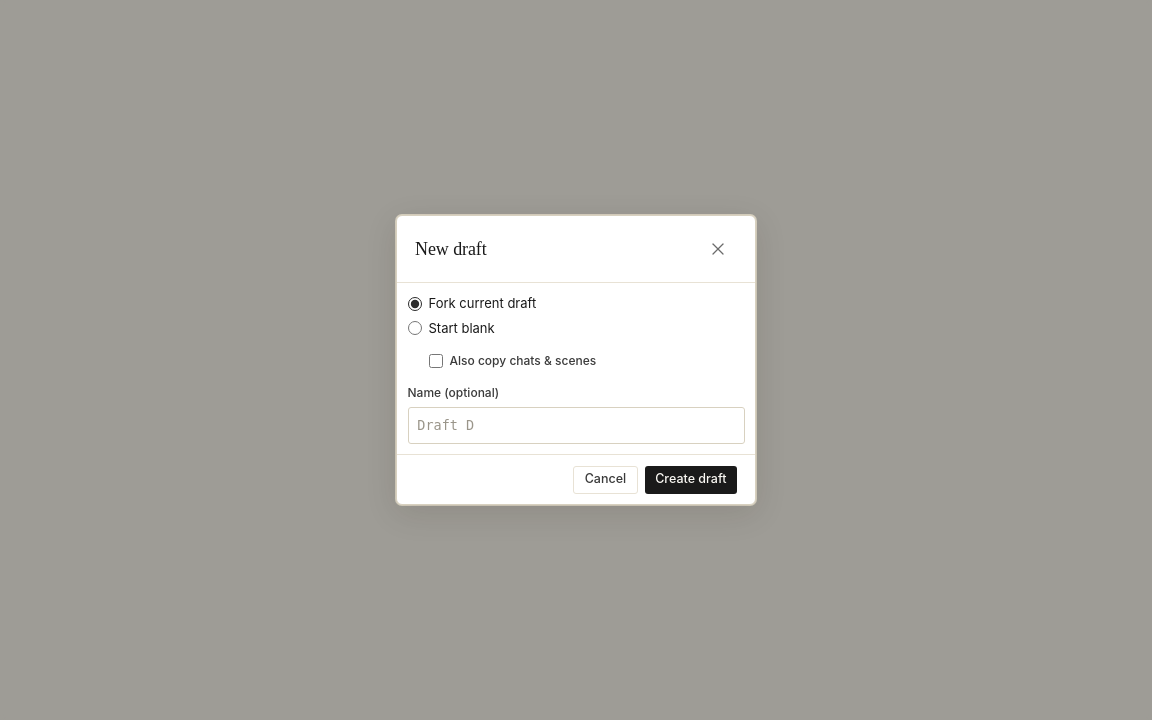
Test case: NewDraftDialog › a failed create keeps the dialog open and shows an inline error
Click the button "Create draft".
click(691, 480)  # box left=645, top=466, right=737, bottom=494
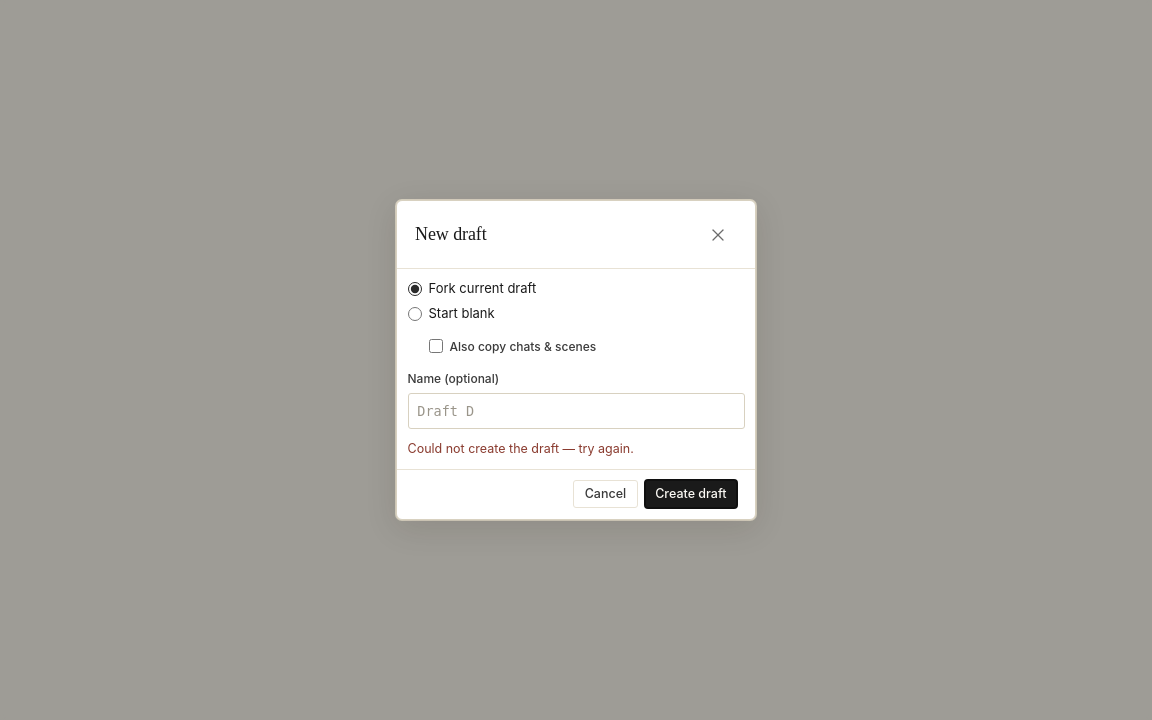
Check: the message shows "Could not create", box left=408, top=440, right=634, bottom=456
